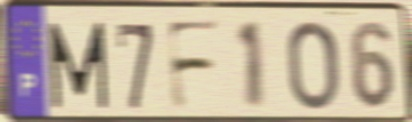1: (234, 18, 267, 114)
6: (347, 18, 395, 114)
7: (114, 20, 156, 112)
F: (164, 18, 223, 114)
M: (45, 19, 111, 112)
O: (284, 18, 341, 113)
